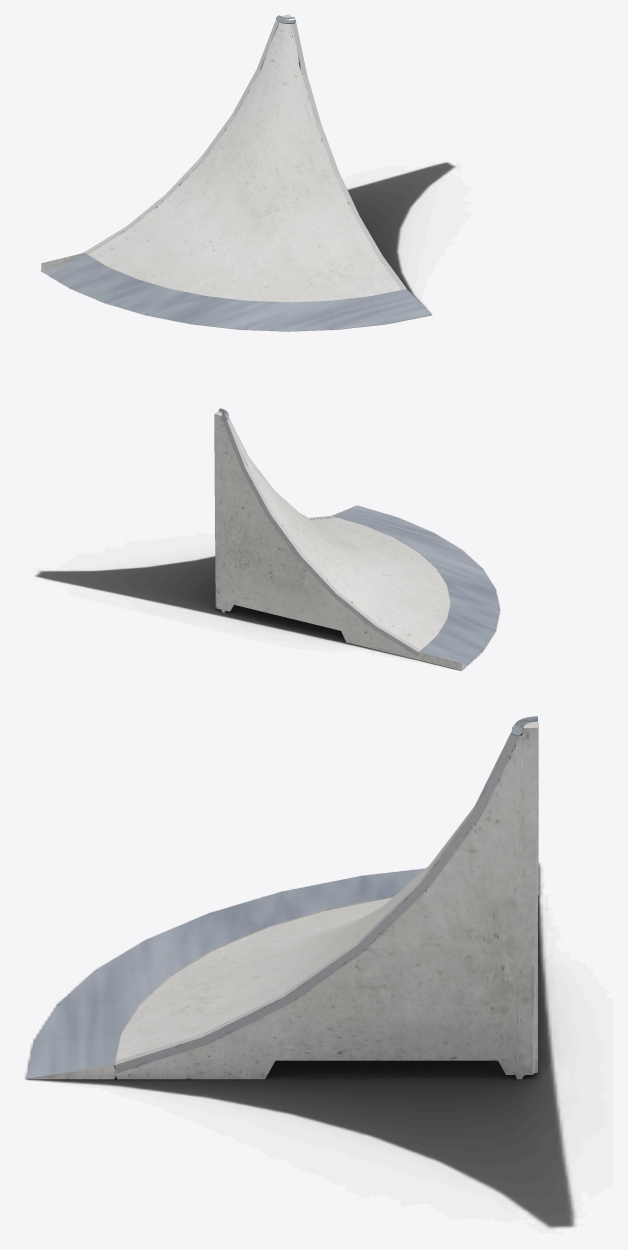
File: kegel-150.gltf
The picture shows the model from 3 angles, top to bottom: view 1: azimuth 30°, elevation 25°; view 2: azimuth 150°, elevation 25°; view 3: azimuth 270°, elevation 25°; orthographic projection. The views are drawn at different scales.
Parts seen in each view (by area): view 1: SK0477_Kegel_150.001, Schatten; view 2: SK0477_Kegel_150.001, Schatten; view 3: SK0477_Kegel_150.001, Schatten.
Boxes of the visible parts, <box> form: SK0477_Kegel_150.001: <box>41,14,430,331</box>; Schatten: <box>41,162,455,331</box>; SK0477_Kegel_150.001: <box>214,408,499,670</box>; Schatten: <box>35,556,500,670</box>; SK0477_Kegel_150.001: <box>26,716,538,1079</box>; Schatten: <box>25,863,574,1228</box>.
Size of the model in its own units: 3.41 by 1.49 by 2.29.
Materials: 4 (4 with a texture image).
